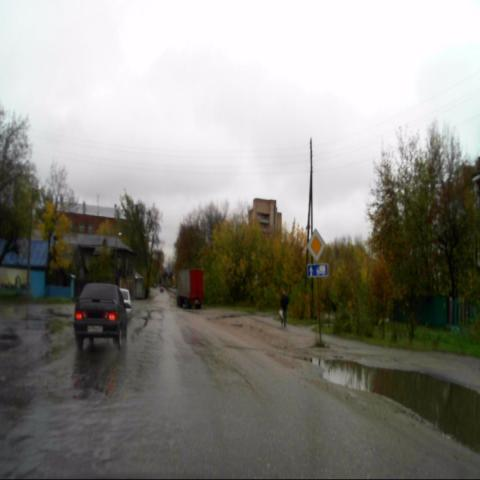6_15_1: (306, 263, 328, 277)
